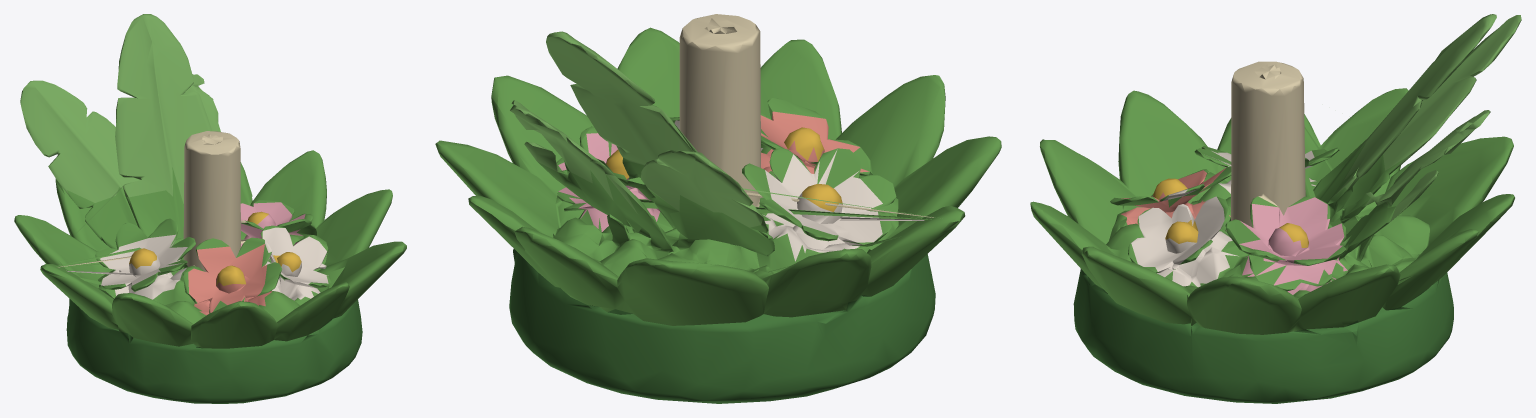
The model's file is banana_leaf_01.full.glb.
3 renders of one model, left to right at view 1: azimuth 30°, elevation 25°; view 2: azimuth 150°, elevation 25°; view 3: azimuth 270°, elevation 25°, orthographic. The views are drawn at different scales.
Bounding box in the file's own units: 2.05 × 1.54 × 2.04.
